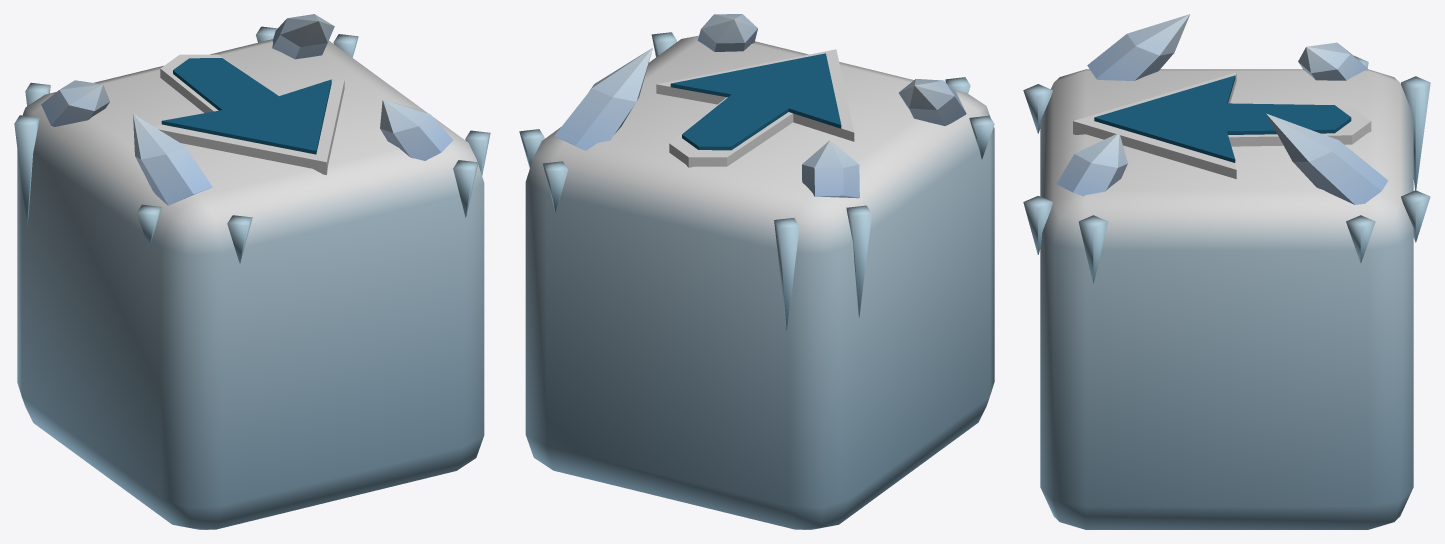
File: buz_lo.glb
3 views of the same model, side by side, from view 1: azimuth 30°, elevation 25°; view 2: azimuth 150°, elevation 25°; view 3: azimuth 270°, elevation 25° (orthographic).
Parts seen in each view (by area): view 1: buz_lo; view 2: buz_lo; view 3: buz_lo.
Part boxes in pixels (left/top/right/bottom): buz_lo: left=14, top=14, right=490, bottom=529; buz_lo: left=519, top=14, right=994, bottom=529; buz_lo: left=1023, top=14, right=1430, bottom=529.
Size of the model in its own units: 0.982 by 1.06 by 0.982.
